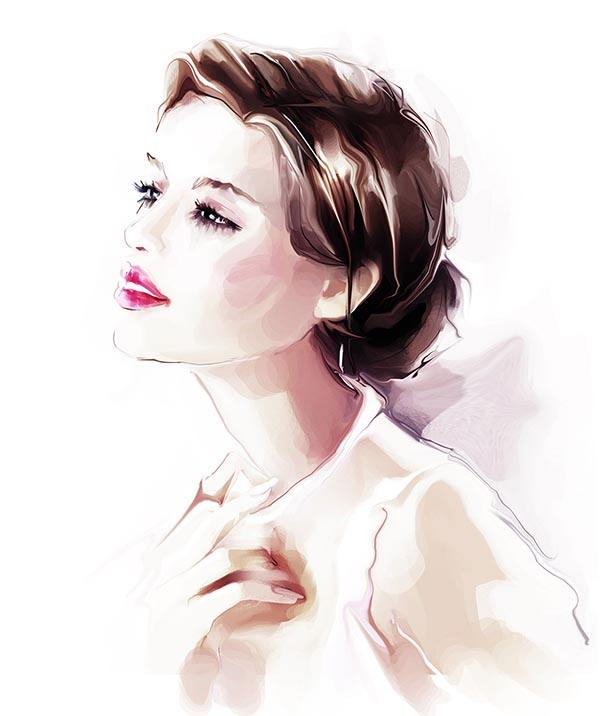person: (93, 40, 512, 716)
